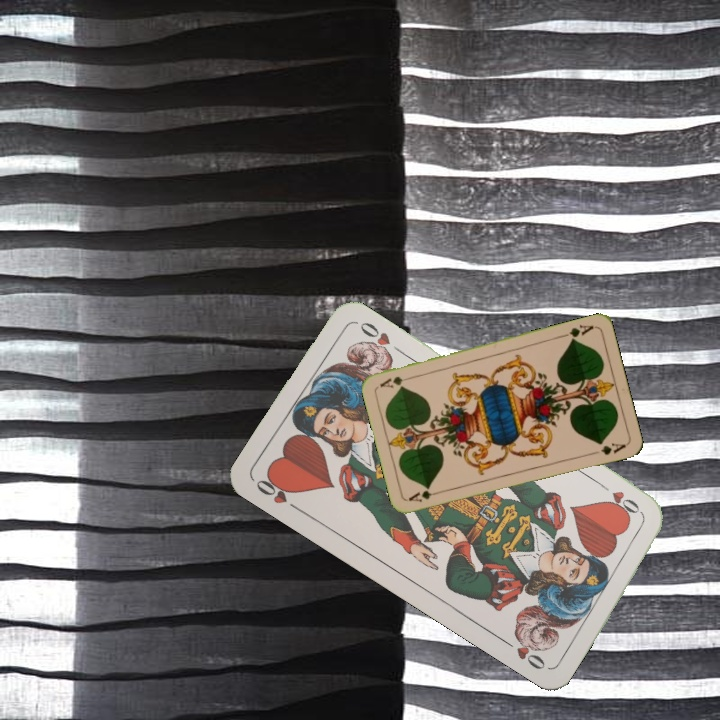GA: (557, 321, 596, 344), (404, 485, 445, 505)
HO: (251, 472, 303, 515), (594, 478, 646, 517)
